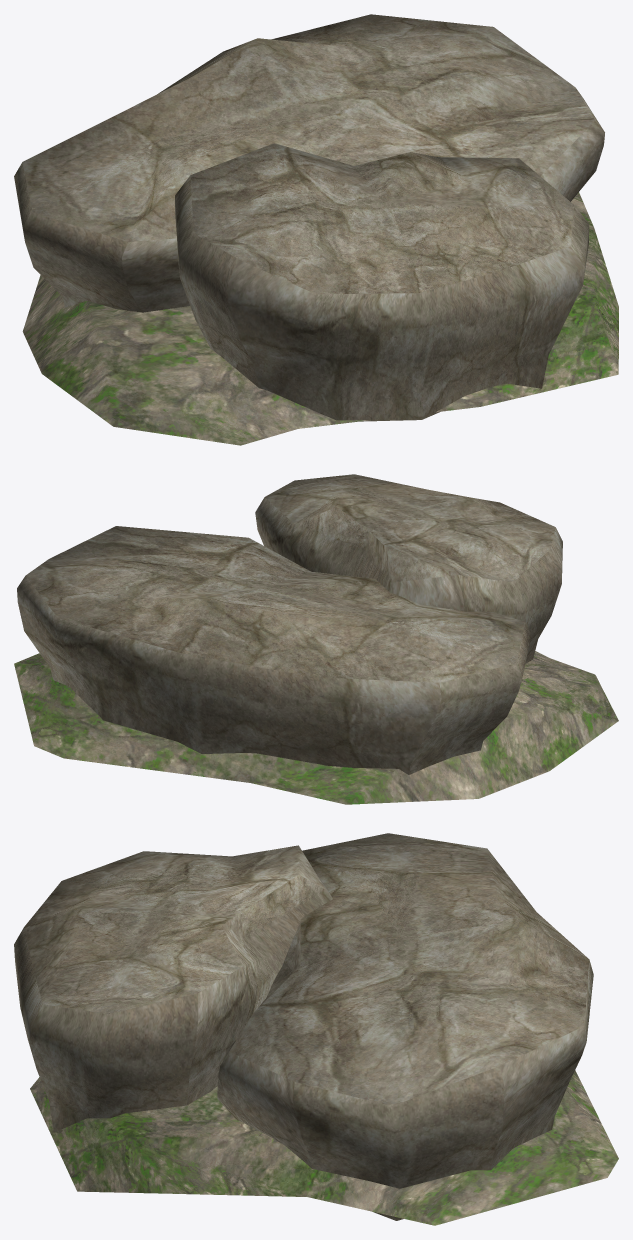
The model's file is rocklowb.FBX.
3 renders of one model, top to bottom at view 1: azimuth 30°, elevation 25°; view 2: azimuth 150°, elevation 25°; view 3: azimuth 270°, elevation 25°, orthographic. The views are drawn at different scales.
Parts seen in each view (by area): view 1: C1SNROCKLOW2_H; view 2: C1SNROCKLOW2_H; view 3: C1SNROCKLOW2_H.
Part boxes in pixels (box(x1,y1,x2,y2)): C1SNROCKLOW2_H: box(14, 14, 618, 445); C1SNROCKLOW2_H: box(14, 474, 618, 804); C1SNROCKLOW2_H: box(14, 833, 618, 1225).
Bounding box in the file's own units: 14.92 × 5.04 × 13.51.
2 materials, 2 textured.
